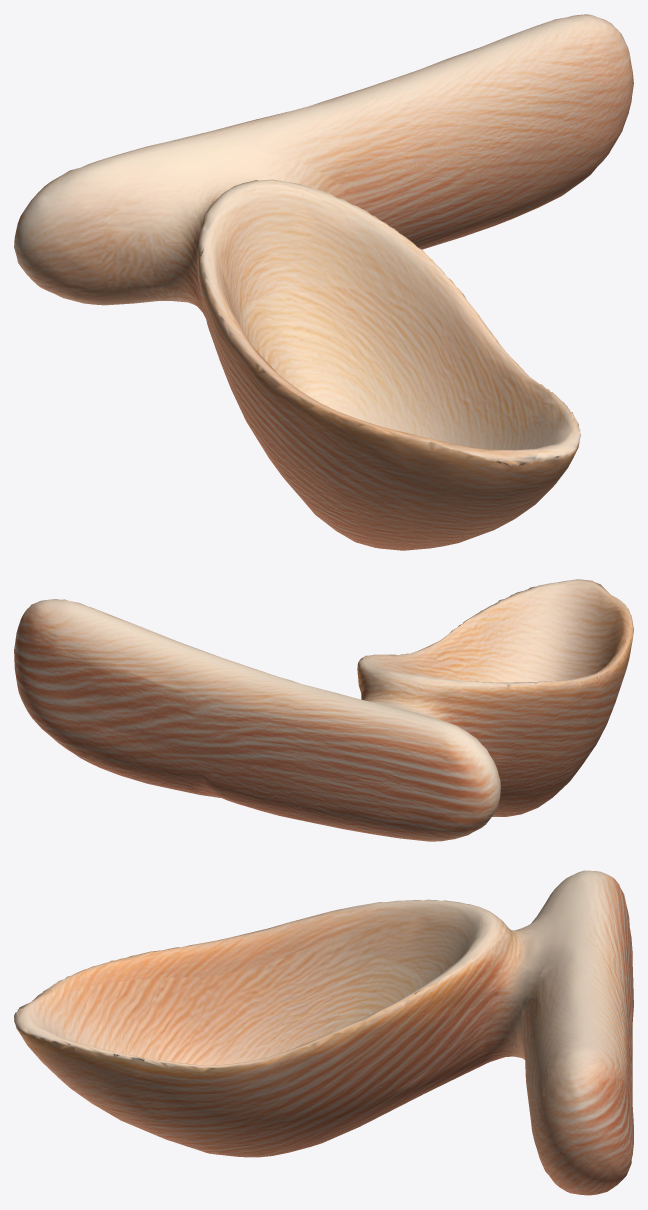
The model's file is spiseredskap_06.glb.
The picture shows the model from 3 angles, top to bottom: view 1: azimuth 30°, elevation 25°; view 2: azimuth 150°, elevation 25°; view 3: azimuth 270°, elevation 25°; orthographic projection. The views are drawn at different scales.
Parts seen in each view (by area): view 1: tripo_node_8b284161-70f6-48f2-94f0-a1f1f801d020; view 2: tripo_node_8b284161-70f6-48f2-94f0-a1f1f801d020; view 3: tripo_node_8b284161-70f6-48f2-94f0-a1f1f801d020.
Boxes of the visible parts, x1,y1,x2,y2 form: tripo_node_8b284161-70f6-48f2-94f0-a1f1f801d020: (14, 14, 633, 550); tripo_node_8b284161-70f6-48f2-94f0-a1f1f801d020: (14, 579, 633, 841); tripo_node_8b284161-70f6-48f2-94f0-a1f1f801d020: (14, 870, 633, 1195).
Size of the model in its own units: 0.998 by 0.4668 by 0.998.
Materials: 1 (1 with a texture image).
